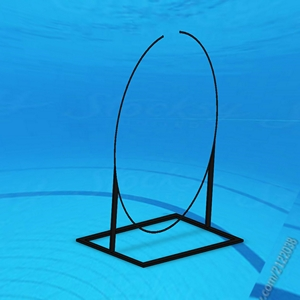circle: (72, 28, 248, 270)
